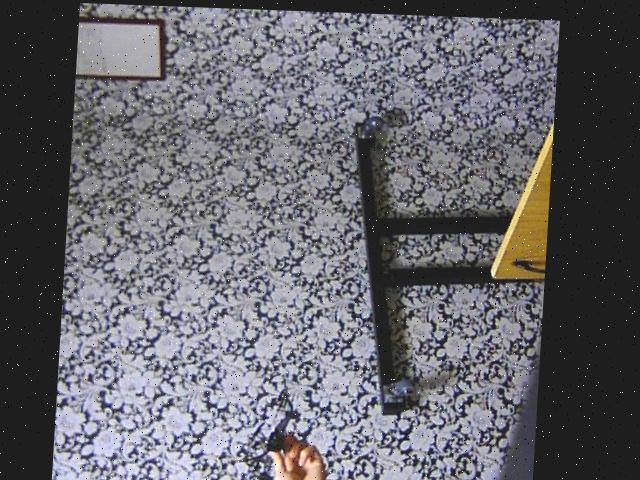drone: (246, 381, 306, 480)
